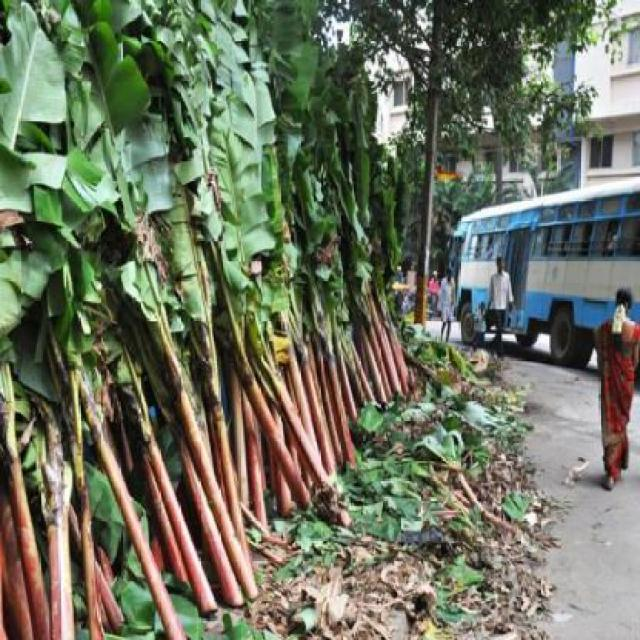garbage: (409, 330, 483, 639), (486, 361, 542, 636), (263, 494, 357, 638), (356, 417, 409, 638)
